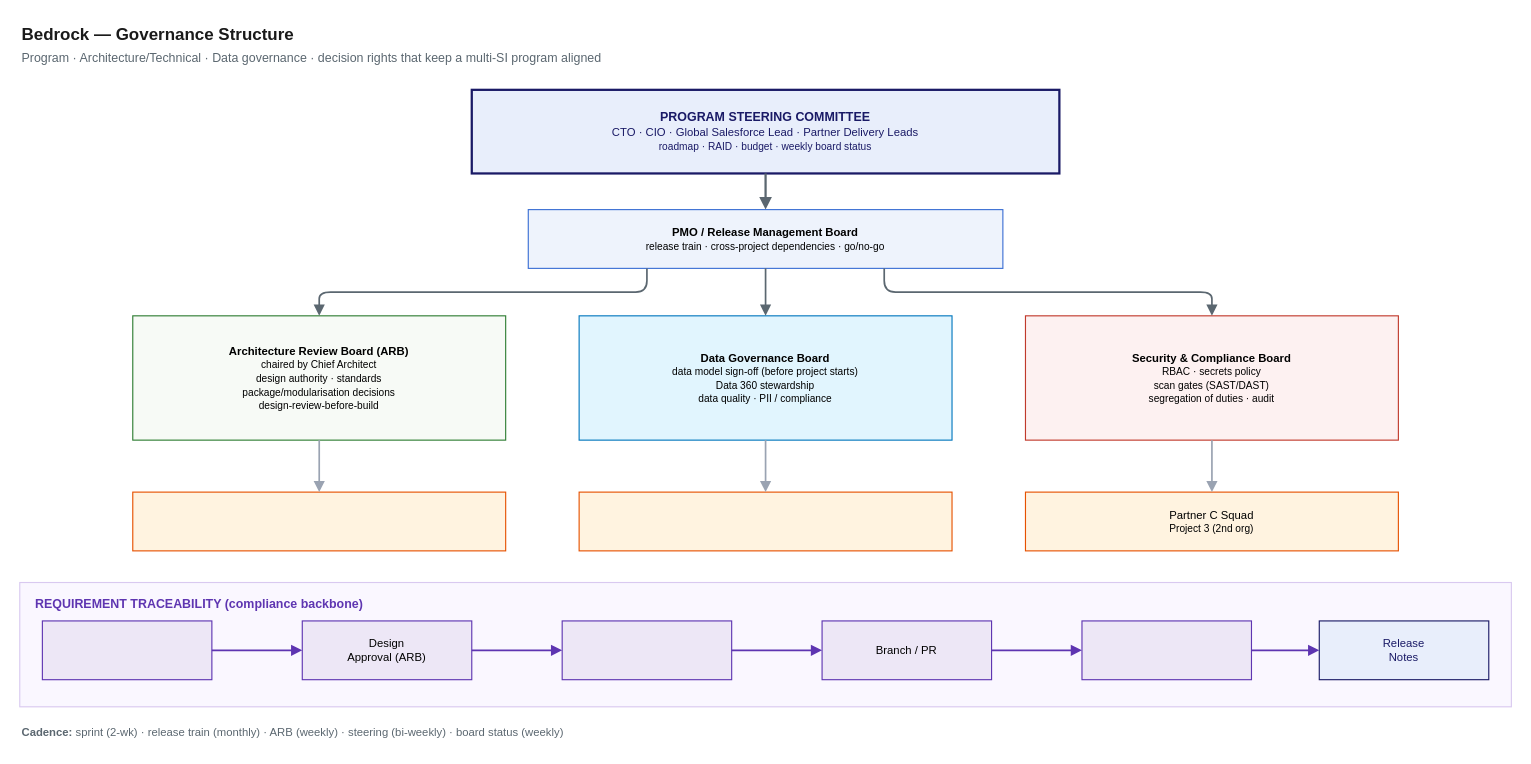
The diagram is 1531 pixels wide and 764 high, and some of its shapes have lost their labels. The shapes that lost their labels are listed below. From the top down, each one's centre as x and y in pixels, then its label:
At (x=319, y=521): "Partner A Squad Project 1".
At (x=765, y=521): "Partner B Squad Project 2".
At (x=126, y=650): "Business Requirement".
At (x=646, y=650): "Work Item (Jira)".
At (x=1166, y=650): "Test + Scan Evidence".
